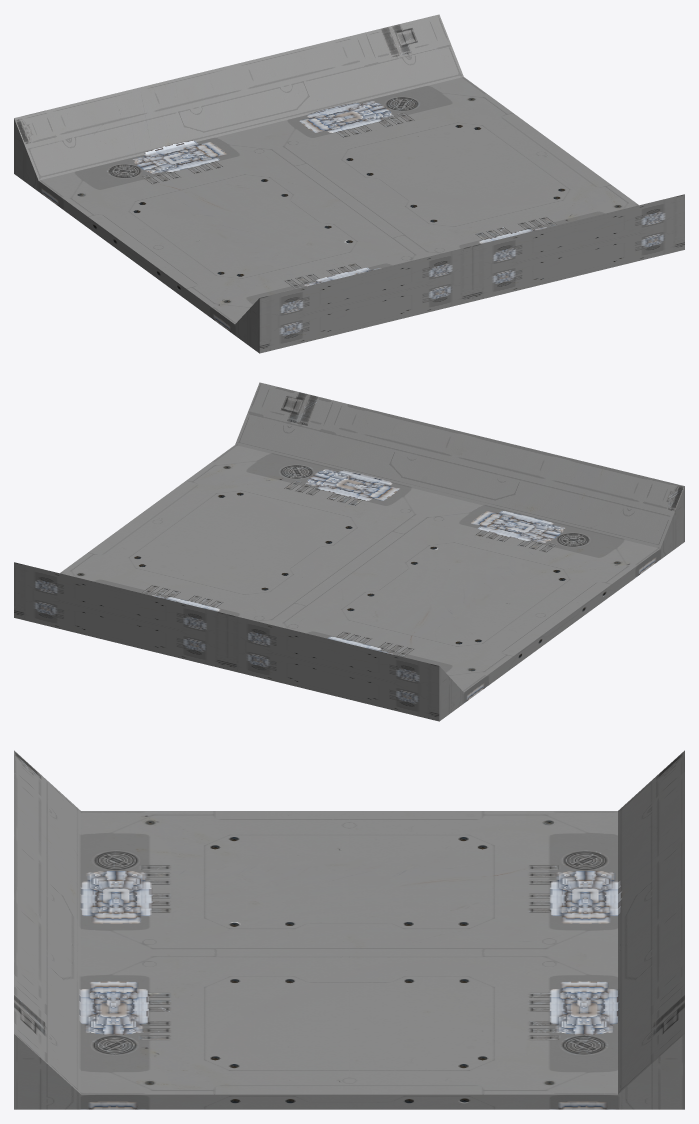
The model's file is SM_CeilingS01.fbx.
The picture shows the model from 3 angles, top to bottom: view 1: azimuth 30°, elevation 25°; view 2: azimuth 150°, elevation 25°; view 3: azimuth 270°, elevation 25°; orthographic projection. The views are drawn at different scales.
Parts seen in each view (by area): view 1: SM_CeilingS01_LOD0; view 2: SM_CeilingS01_LOD0; view 3: SM_CeilingS01_LOD0.
Boxes of the visible parts, x1,y1,x2,y2 form: SM_CeilingS01_LOD0: (14, 14, 684, 353); SM_CeilingS01_LOD0: (14, 382, 684, 721); SM_CeilingS01_LOD0: (14, 750, 684, 1109).
Size of the model in its own units: 400 by 400 by 50.
